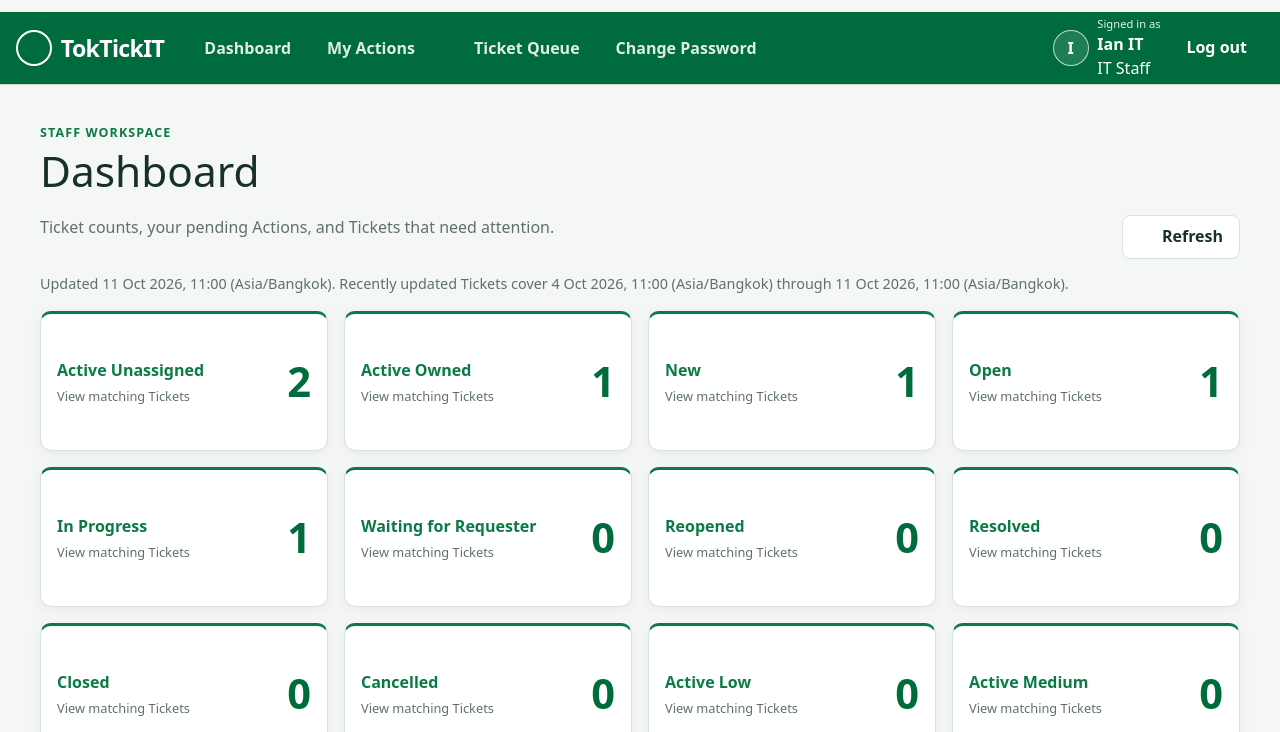
it: Staff dashboard UI › hides the last counts after a failed refresh and restores focus to the window note after retry
Expected: the link with aria-label "Active Owned: 1" is shown, [361, 353, 615, 409]
Click the button with aria-label "Refresh dashboard": point(1181, 237) [1122, 215, 1240, 259]
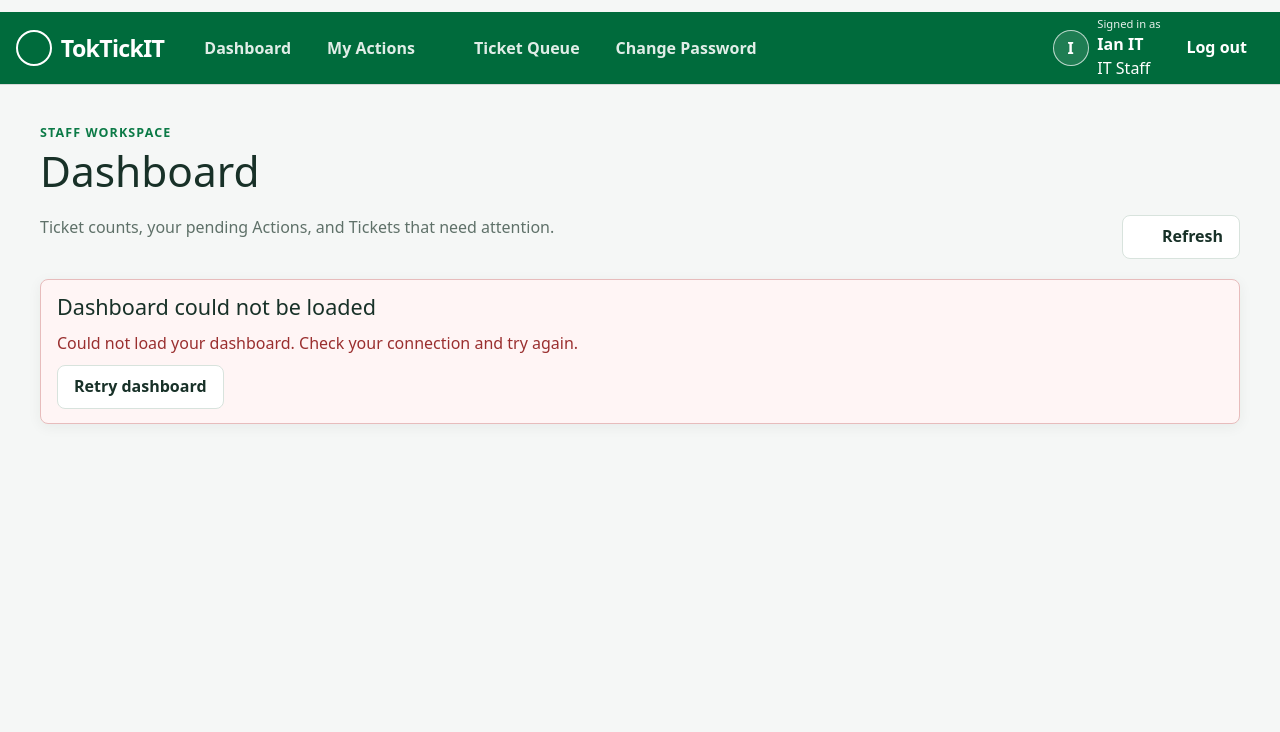
Now the heading "Dashboard could not be loaded" is shown, box [57, 292, 376, 321]
Click the button "Retry dashboard": point(140, 387) [57, 365, 224, 409]
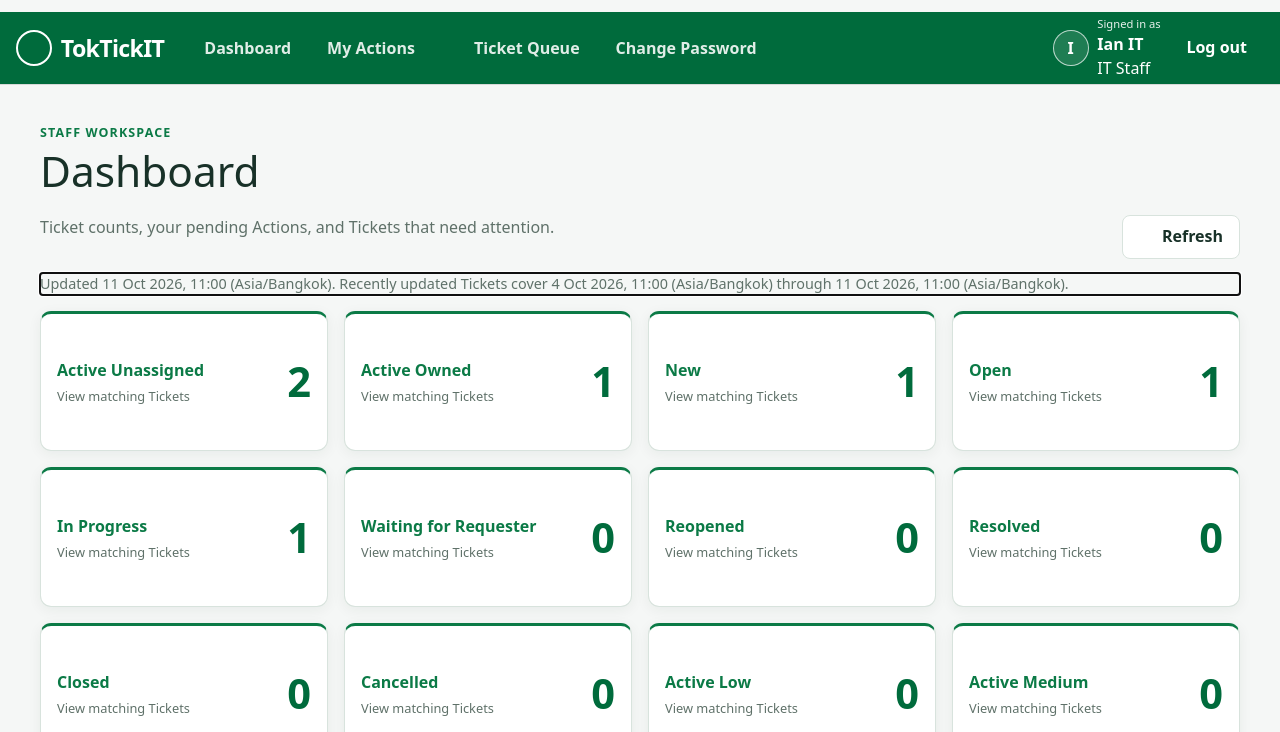
Now the link with aria-label "Active Owned: 1" is shown, box [361, 353, 615, 409]
